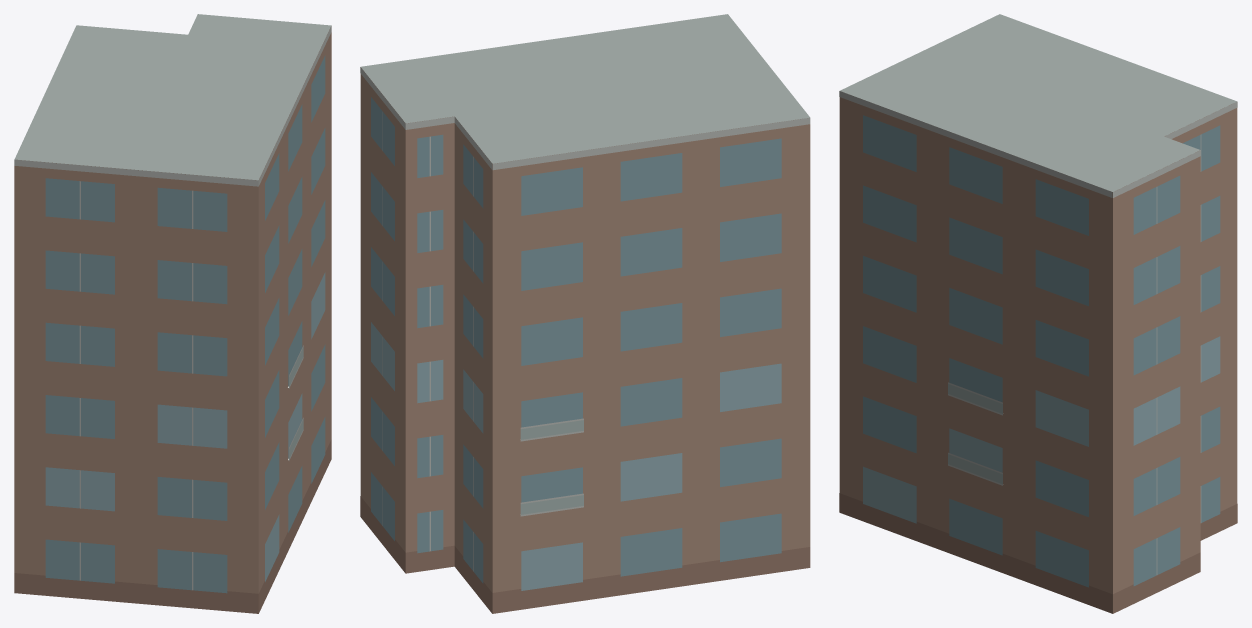
Rendered from survey-upis-32903838.glb.
3 views of the same model, side by side, from view 1: azimuth 30°, elevation 25°; view 2: azimuth 150°, elevation 25°; view 3: azimuth 270°, elevation 25° (orthographic). The views are drawn at different scales.
Parts seen in each view (by area): view 1: survey-upis-32903838.tmp; view 2: survey-upis-32903838.tmp; view 3: survey-upis-32903838.tmp.
Part boxes in pixels (<box>): survey-upis-32903838.tmp: <box>14,14,331,613</box>; survey-upis-32903838.tmp: <box>360,14,810,613</box>; survey-upis-32903838.tmp: <box>839,14,1237,613</box>.
Bounding box in the file's own units: 15.22 × 16.8 × 14.37.
